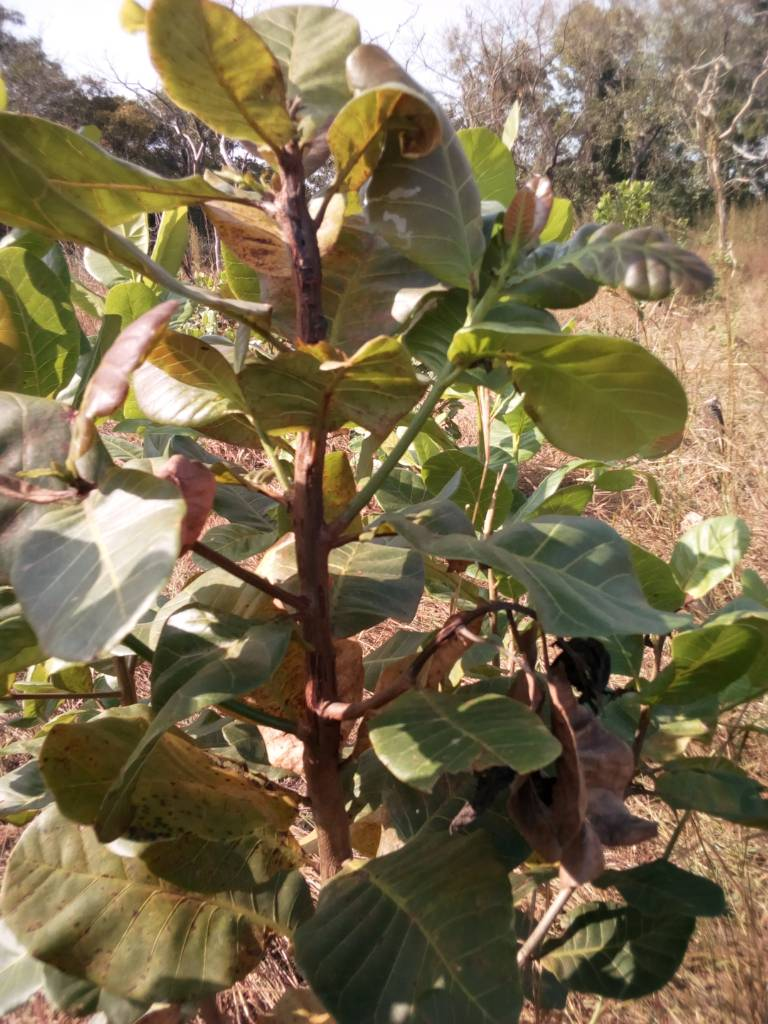Dessèchement des bourgeons: (538, 632, 658, 754), (404, 600, 538, 682)
